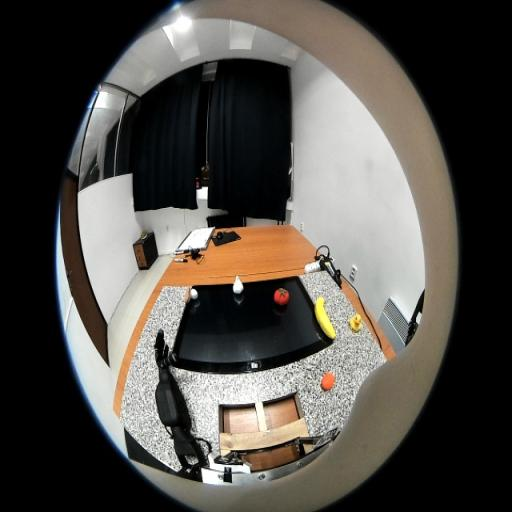Banana: (314, 296, 336, 340)
Duck: (350, 312, 362, 332)
LeftHand: (156, 350, 170, 370)
Mushroom: (184, 287, 198, 303)
Onion: (233, 275, 244, 294)
Orange: (321, 372, 334, 390)
Tomato: (274, 288, 290, 305)
